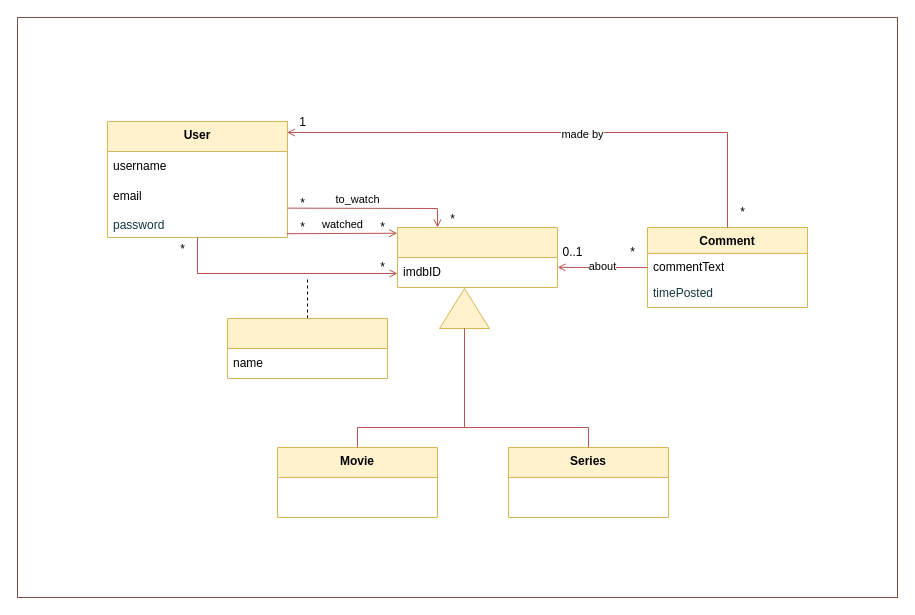
The diagram is 915 pixels wide and 615 high, and some of its shapes have lost their labels. Here are the shapes that lost their labels. From the top down, the box of each, then its label:
(396, 226, 558, 288): Media
(226, 318, 388, 378): Media list
